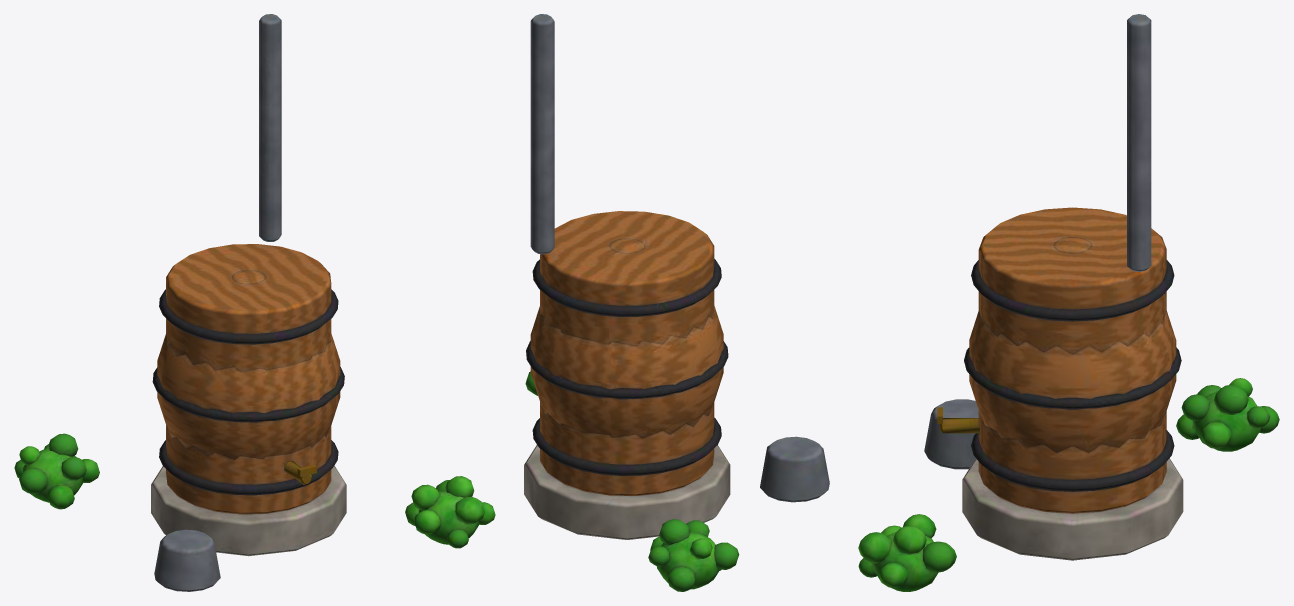
The model's file is rain_barrel.glb.
3 renders of one model, left to right at view 1: azimuth 30°, elevation 25°; view 2: azimuth 150°, elevation 25°; view 3: azimuth 270°, elevation 25°, orthographic. The views are drawn at different scales.
Parts seen in each view (by area): view 1: rain_barrel; view 2: rain_barrel; view 3: rain_barrel.
Part boxes in pixels (left/top/right/bottom): rain_barrel: left=14, top=14, right=495, bottom=591; rain_barrel: left=524, top=14, right=829, bottom=591; rain_barrel: left=858, top=14, right=1279, bottom=591.
Bounding box in the file's own units: 0.7859 × 1.05 × 0.7625.
Materials: 1 (1 with a texture image).
